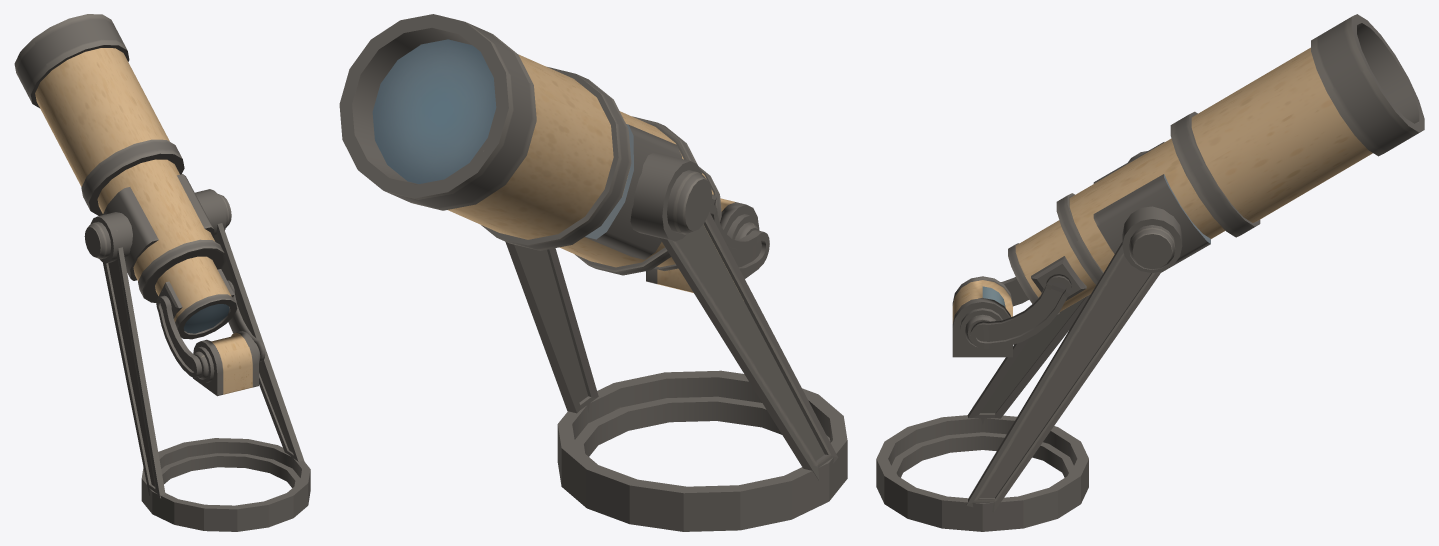
The model's file is Telescopio.fbx.
3 renders of one model, left to right at view 1: azimuth 30°, elevation 25°; view 2: azimuth 150°, elevation 25°; view 3: azimuth 270°, elevation 25°, orthographic. The views are drawn at different scales.
Visible parts, largest first — view 1: telescopio; view 2: telescopio; view 3: telescopio.
Boxes of the visible parts, x1,y1,x2,y2 form: telescopio: (14, 14, 310, 531); telescopio: (339, 14, 847, 531); telescopio: (876, 14, 1424, 531).
Size of the model in its own units: 3.41 by 8.23 by 8.8.
